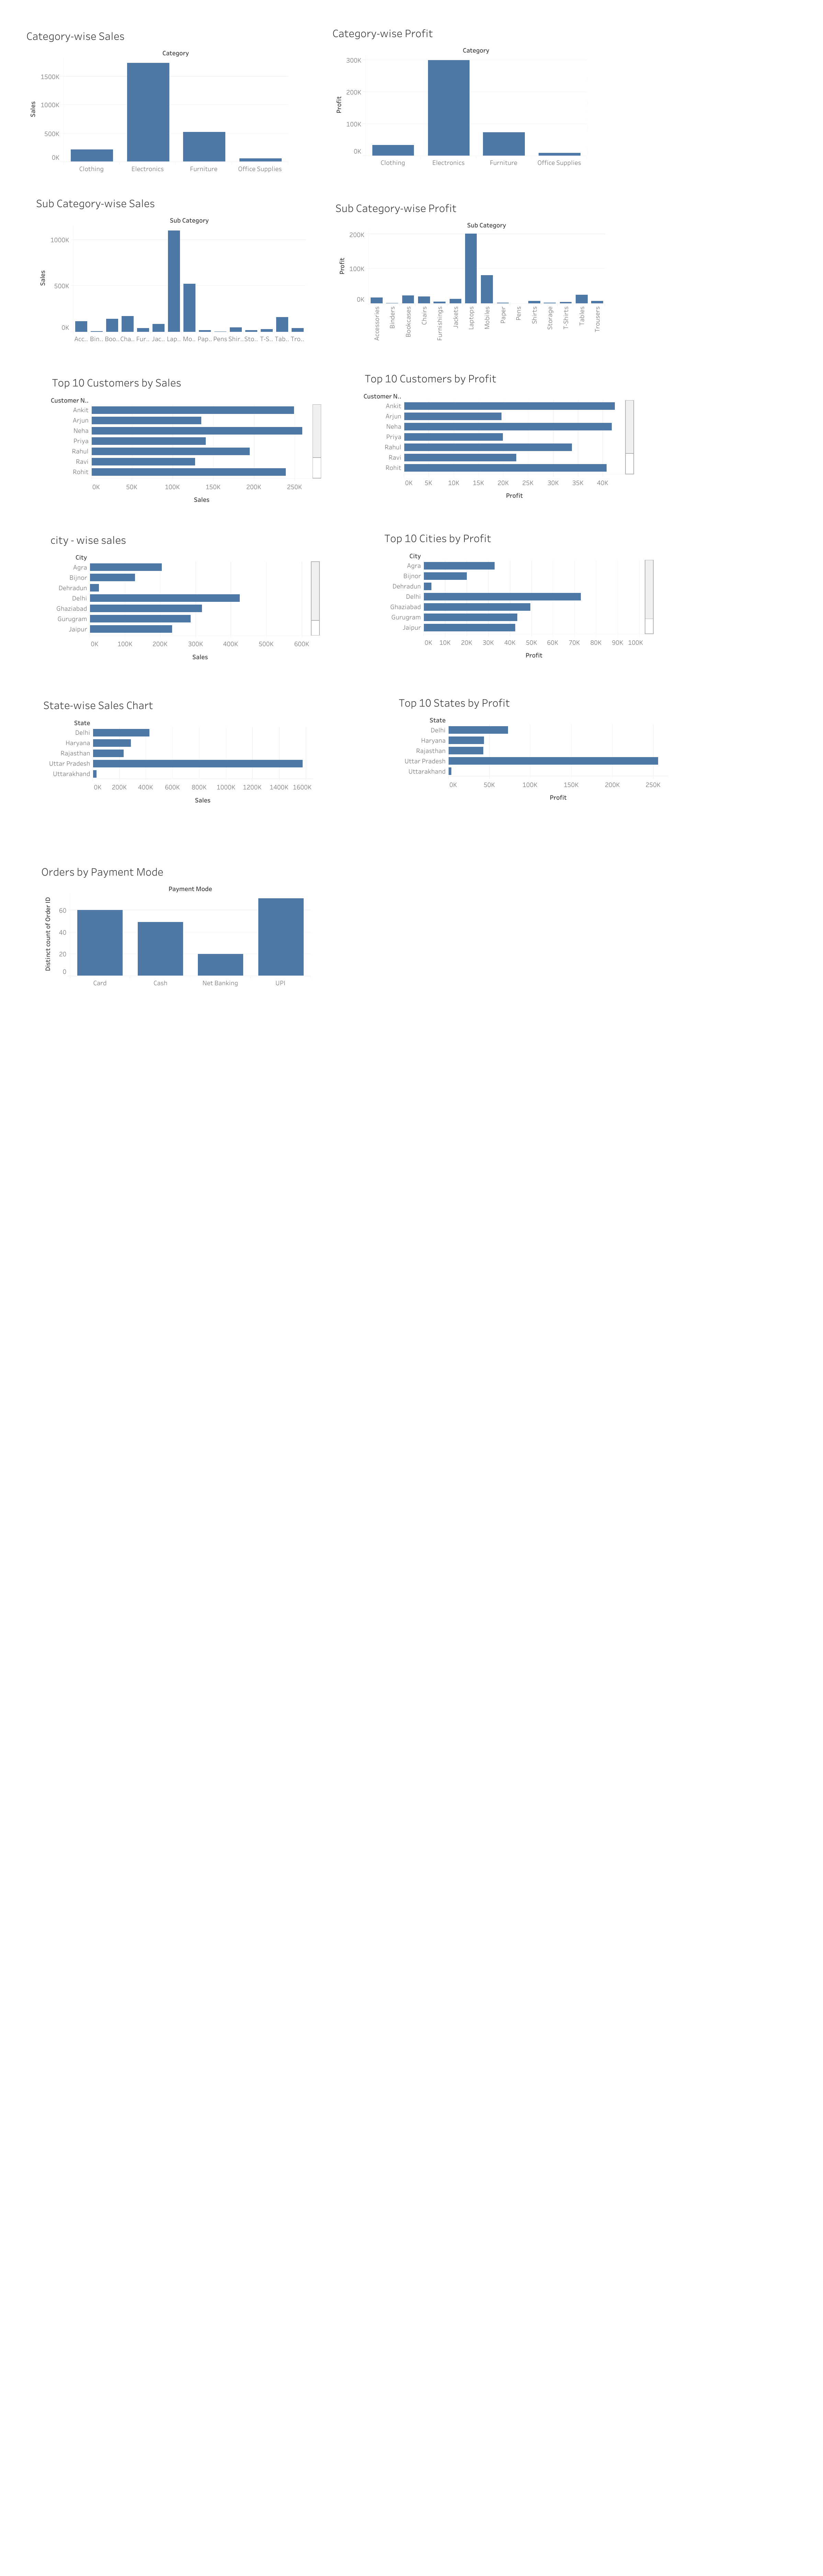

This screenshot's page, from the dashboard's own definition file:
{"tool":"tableau","page":{"name":"Dashboard 2","canvas":[1000,1000],"units":"permille","ordinal":0},"visuals":[{"type":"worksheet","title":"Category-wise Profit","mark":"Automatic","rows":["Profit"],"cols":["Category"],"box":[401.1,8.8,311.6,59.6]},{"type":"worksheet","title":"Category-wise Sales","mark":"Automatic","rows":["Sales"],"cols":["Category"],"box":[29.4,9.8,320.4,61]},{"type":"worksheet","title":"Sub Category-wise Sales","mark":"Automatic","rows":["Sales"],"cols":["Sub_Category"],"box":[41.3,74.8,329.8,58.4]},{"type":"worksheet","title":"Sub Category-wise Profit ","mark":"Automatic","rows":["Profit"],"cols":["Sub_Category"],"box":[404.9,76.6,329.8,57.2]},{"type":"worksheet","title":"Top 10 Customers by Profit","mark":"Automatic","rows":["Customer_Name"],"cols":["Profit"],"box":[440.6,142.8,329.8,52.6]},{"type":"worksheet","title":"Top 10 Customers by Sales","mark":"Automatic","rows":["Customer_Name"],"cols":["Sales"],"box":[60.7,144.4,329.8,52.6]},{"type":"worksheet","title":"Top 10 Cities by Profit","mark":"Automatic","rows":["City"],"cols":["Profit"],"box":[464.3,204.8,329.8,52.6]},{"type":"worksheet","title":"city - wise sales","mark":"Automatic","rows":["City"],"cols":["Sales"],"box":[58.8,205.4,329.8,52.6]},{"type":"worksheet","title":"Top 10 States by Profit","mark":"Automatic","rows":["State"],"cols":["Profit"],"box":[481.9,268.6,329.8,52.6]},{"type":"worksheet","title":"State-wise Sales Chart","mark":"Automatic","rows":["State"],"cols":["Sales"],"box":[50.1,269.6,329.8,52.6]},{"type":"worksheet","title":"Orders by Payment Mode","mark":"Automatic","rows":["Order_ID"],"cols":["Payment_Mode"],"box":[47.6,334.2,329.8,52.6]}]}

Visuals, with their boxes on the dashboard's canvas, which has no fixed pixel size, in thousandths of its width and height (x1, y1, x2, y2). These are canvas units, not pixel positions in the 823x2576 screenshot, which may show the page scaled, cropped or inside an application window:
"Category-wise Profit" worksheet: crop(401, 9, 713, 68)
"Category-wise Sales" worksheet: crop(29, 10, 350, 71)
"Sub Category-wise Sales" worksheet: crop(41, 75, 371, 133)
"Sub Category-wise Profit " worksheet: crop(405, 77, 735, 134)
"Top 10 Customers by Profit" worksheet: crop(441, 143, 770, 195)
"Top 10 Customers by Sales" worksheet: crop(61, 144, 390, 197)
"Top 10 Cities by Profit" worksheet: crop(464, 205, 794, 257)
"city - wise sales" worksheet: crop(59, 205, 389, 258)
"Top 10 States by Profit" worksheet: crop(482, 269, 812, 321)
"State-wise Sales Chart" worksheet: crop(50, 270, 380, 322)
"Orders by Payment Mode" worksheet: crop(48, 334, 377, 387)
